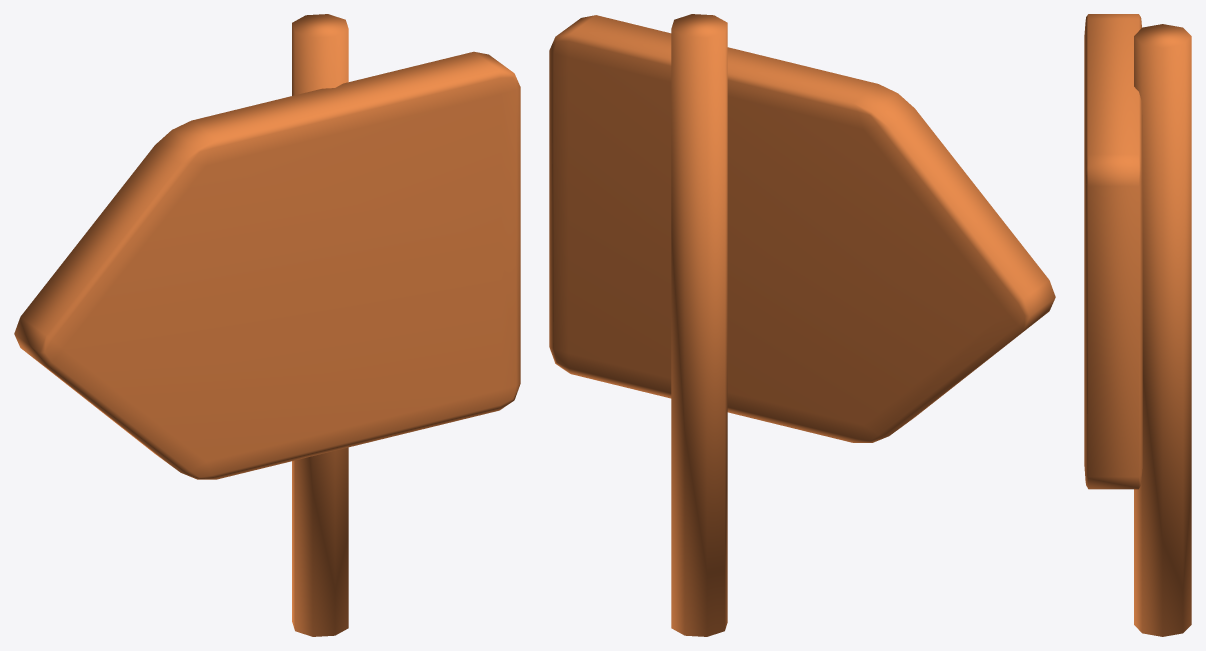
Rendered from Pointer.fbx.
The picture shows the model from 3 angles, left to right: view 1: azimuth 30°, elevation 25°; view 2: azimuth 150°, elevation 25°; view 3: azimuth 270°, elevation 25°; orthographic projection.
Parts seen in each view (by area): view 1: Cube; view 2: Cube; view 3: Cube.
Part boxes in pixels (x1=…): Cube: x1=14, y1=14, x2=520, y2=636; Cube: x1=549, y1=14, x2=1055, y2=636; Cube: x1=1084, y1=14, x2=1191, y2=636.
Size of the model in its own units: 43.84 by 52.18 by 8.6.
